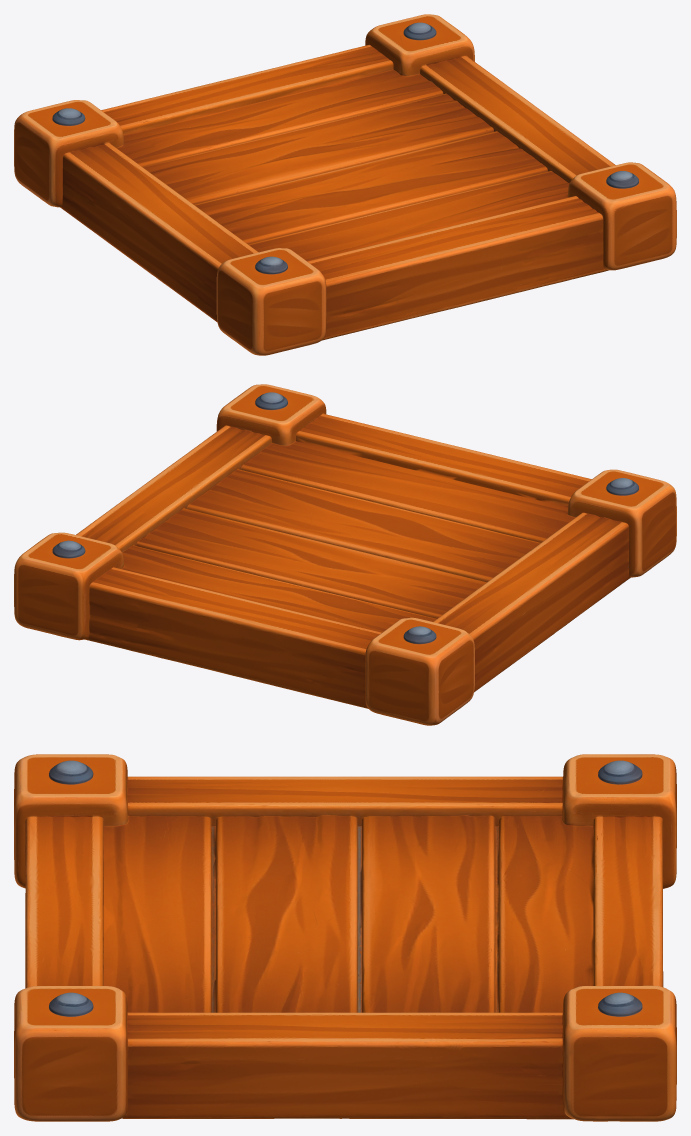
File: floor.glb
3 renders of one model, top to bottom at view 1: azimuth 30°, elevation 25°; view 2: azimuth 150°, elevation 25°; view 3: azimuth 270°, elevation 25°, orthographic. The views are drawn at different scales.
Size of the model in its own units: 1.9 by 0.3475 by 1.9.
Materials: 1 (1 with a texture image).
